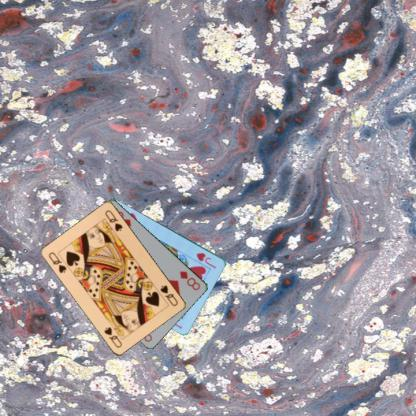8d: (177, 268, 202, 292)
Jh: (194, 250, 217, 270)
Qs: (158, 283, 180, 308), (46, 250, 68, 274)
